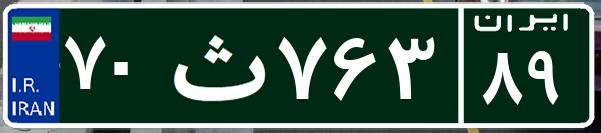0: (110, 28, 158, 105)
3: (385, 28, 445, 110)
6: (330, 28, 385, 110)
7: (273, 28, 330, 110), (57, 26, 110, 107)
8: (475, 38, 525, 113)
9: (525, 38, 570, 115)
ث: (158, 15, 273, 115)
